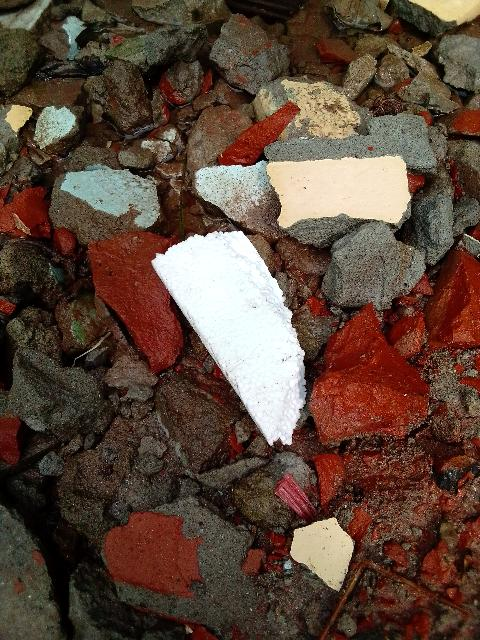cocksheet: (148, 218, 333, 464)
